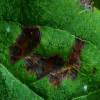Apple Scab Leaf: (4, 10, 95, 93)
